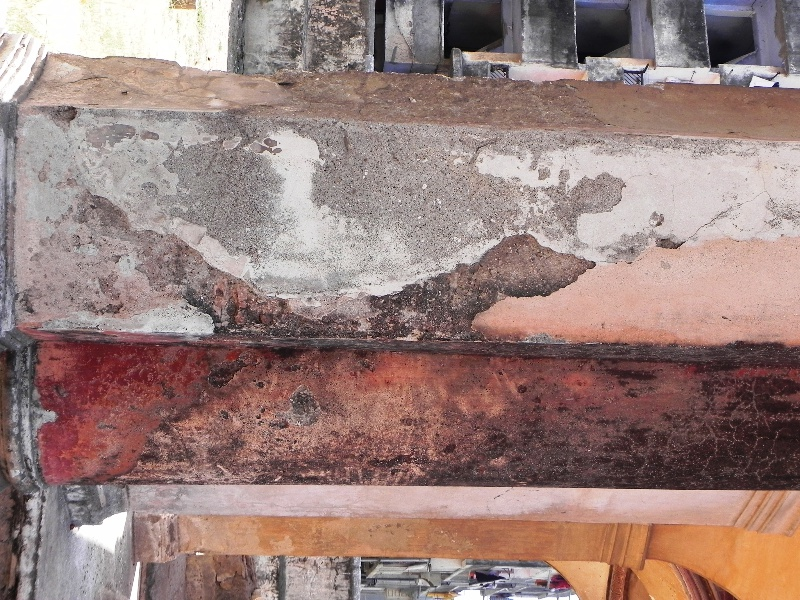Spalling: (139, 64, 629, 346)
